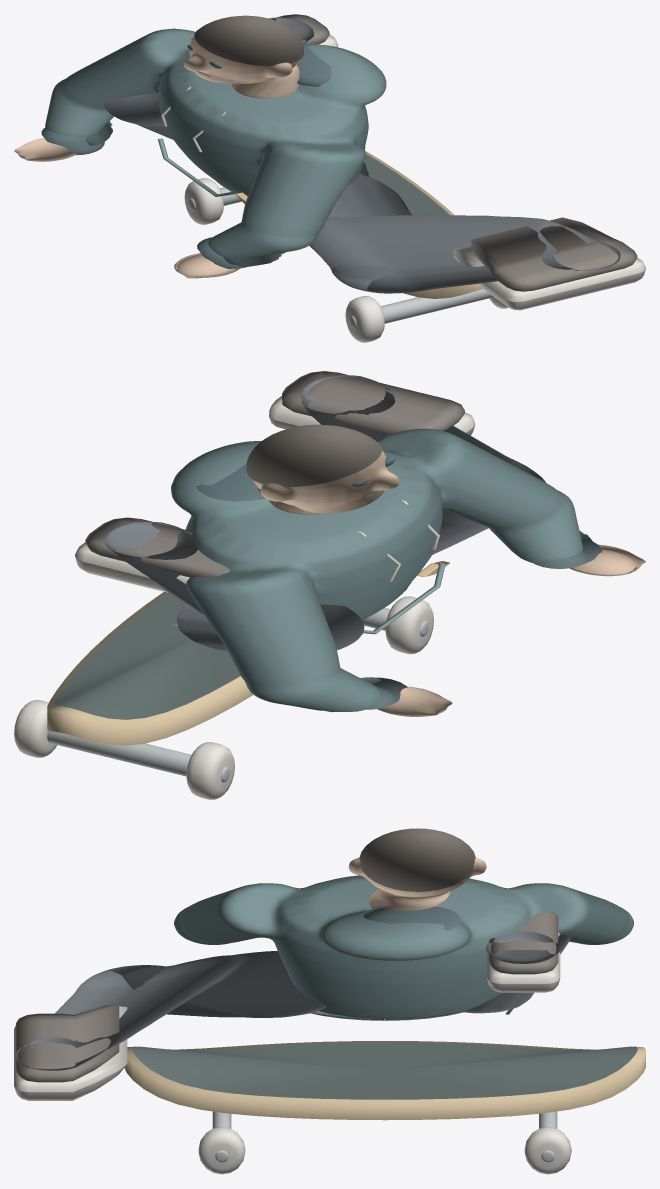
The model's file is skater.glb.
3 views of the same model, one above another, from view 1: azimuth 30°, elevation 25°; view 2: azimuth 150°, elevation 25°; view 3: azimuth 270°, elevation 25° (orthographic). The views are drawn at different scales.
Visible parts, largest first — view 1: Cotton garment, Denim trousers, RiderBody Suede skate shoes, Skin, Cropped hair, RiderBody Worn offwhite rubber, Skateboard Worn offwhite rubber, RiderBody Hood lining, Skateboard Brushed trucks, Griptape, Maple deck, RiderBody Raised cotton seams; view 2: Cotton garment, Griptape, RiderBody Suede skate shoes, Denim trousers, Skin, Cropped hair, Maple deck, Skateboard Worn offwhite rubber, Skateboard Brushed trucks, RiderBody Hood lining, RiderBody Worn offwhite rubber, RiderBody Raised cotton seams; view 3: Cotton garment, Griptape, Denim trousers, Maple deck, RiderBody Suede skate shoes, Cropped hair, RiderBody Worn offwhite rubber, Skateboard Worn offwhite rubber, Skin, RiderBody Hood lining, Skateboard Brushed trucks.
Boxes of the visible parts, x1,y1,x2,y2 form: Cotton garment: (45, 28, 386, 266); Denim trousers: (104, 17, 620, 293); RiderBody Suede skate shoes: (191, 14, 637, 291); Skin: (14, 36, 299, 278); Cropped hair: (194, 15, 303, 65); RiderBody Worn offwhite rubber: (319, 34, 645, 310); Skateboard Worn offwhite rubber: (184, 178, 508, 342); RiderBody Hood lining: (41, 43, 331, 268); Skateboard Brushed trucks: (188, 187, 493, 328); Griptape: (363, 154, 449, 215); Maple deck: (365, 151, 483, 298); RiderBody Raised cotton seams: (157, 138, 369, 196); Cotton garment: (171, 428, 592, 712); Griptape: (54, 592, 240, 719); RiderBody Suede skate shoes: (85, 371, 464, 577); Denim trousers: (104, 375, 545, 650); Skin: (253, 450, 645, 716); Cropped hair: (246, 424, 382, 486); Maple deck: (47, 591, 253, 745); Skateboard Worn offwhite rubber: (14, 596, 433, 799); Skateboard Brushed trucks: (47, 608, 428, 782); RiderBody Hood lining: (196, 457, 601, 709); RiderBody Worn offwhite rubber: (74, 396, 475, 592); RiderBody Raised cotton seams: (363, 563, 445, 634); Cotton garment: (174, 875, 633, 1018); Griptape: (132, 1042, 637, 1099); Denim trousers: (15, 931, 570, 1070); Maple deck: (124, 1041, 645, 1120); RiderBody Suede skate shoes: (16, 912, 558, 1082); Cropped hair: (359, 828, 475, 891); RiderBody Worn offwhite rubber: (14, 932, 560, 1100); Skateboard Worn offwhite rubber: (198, 1127, 571, 1174); Skin: (348, 857, 486, 910); RiderBody Hood lining: (361, 906, 460, 931); Skateboard Brushed trucks: (212, 1111, 557, 1162).
Size of the model in its own units: 0.7972 by 0.512 by 1.16.
